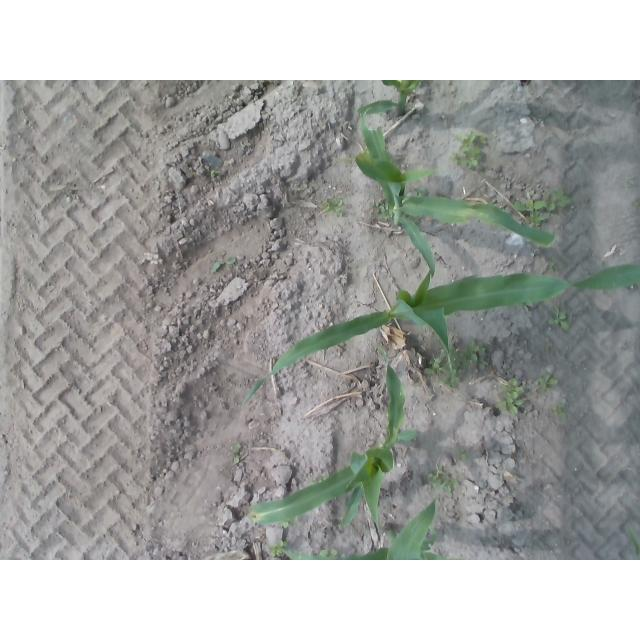Maize: (241, 254, 640, 409), (356, 108, 557, 278), (247, 347, 418, 529), (285, 501, 439, 559), (353, 81, 428, 120)
Weeds: (427, 344, 493, 386), (454, 134, 484, 171), (502, 377, 527, 420), (432, 467, 465, 497), (514, 199, 549, 227), (323, 194, 354, 222), (545, 189, 575, 214), (212, 256, 245, 275), (553, 309, 574, 335), (227, 443, 248, 462), (540, 374, 560, 392), (553, 405, 572, 419), (272, 543, 289, 558)
